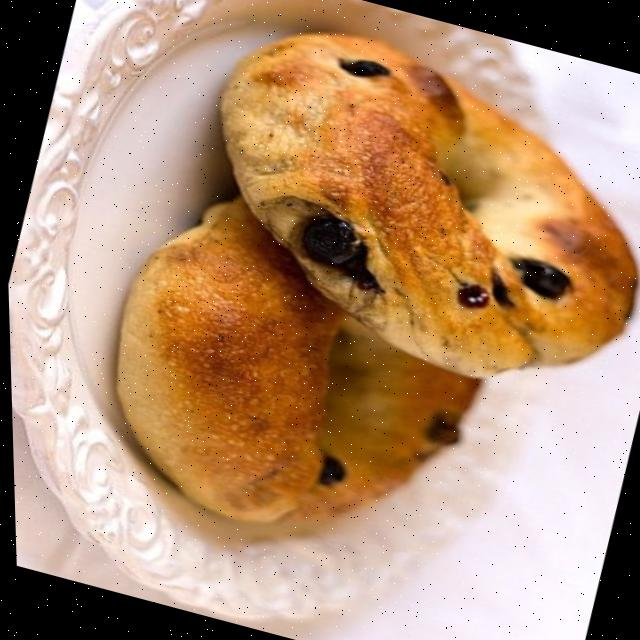Bagel: (219, 33, 635, 377), (113, 198, 477, 521)
